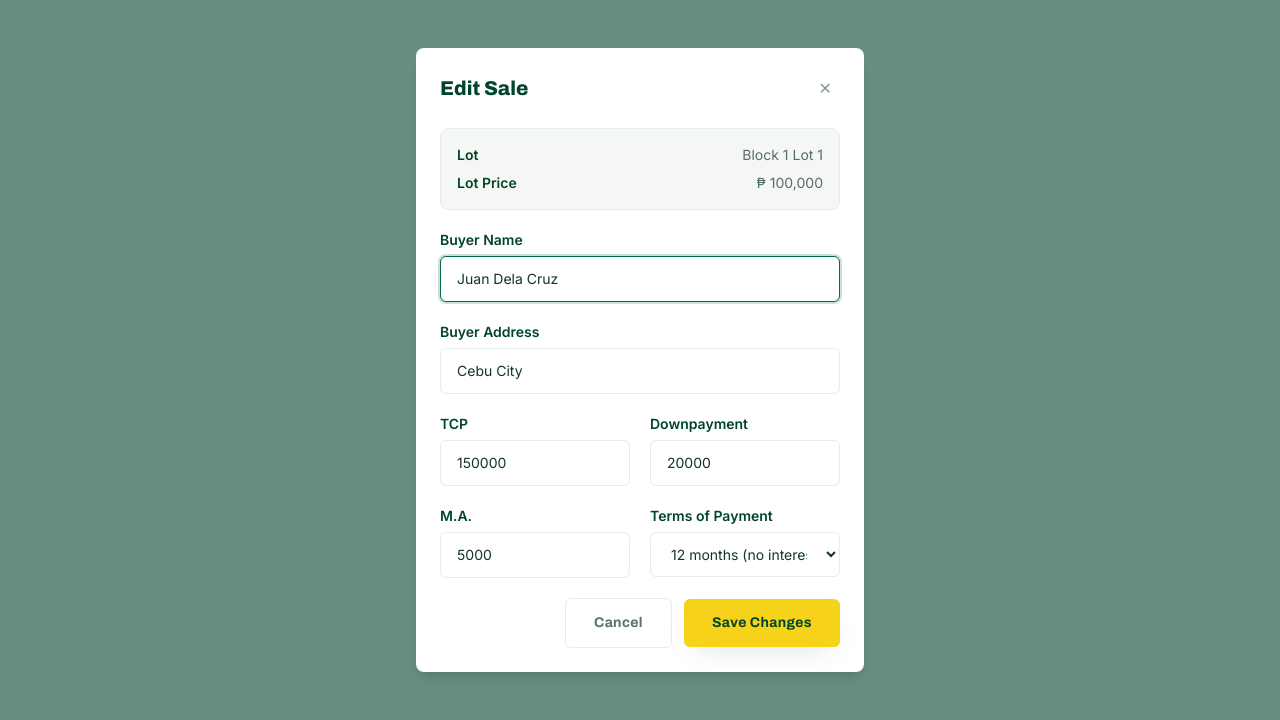
Scenario: SaleDetailsModal › saves the edited buyer details and notifies the parent
Replace the text in the field labelled "Buyer Address" with "Davao City" at (640, 371), box [440,348,840,394]
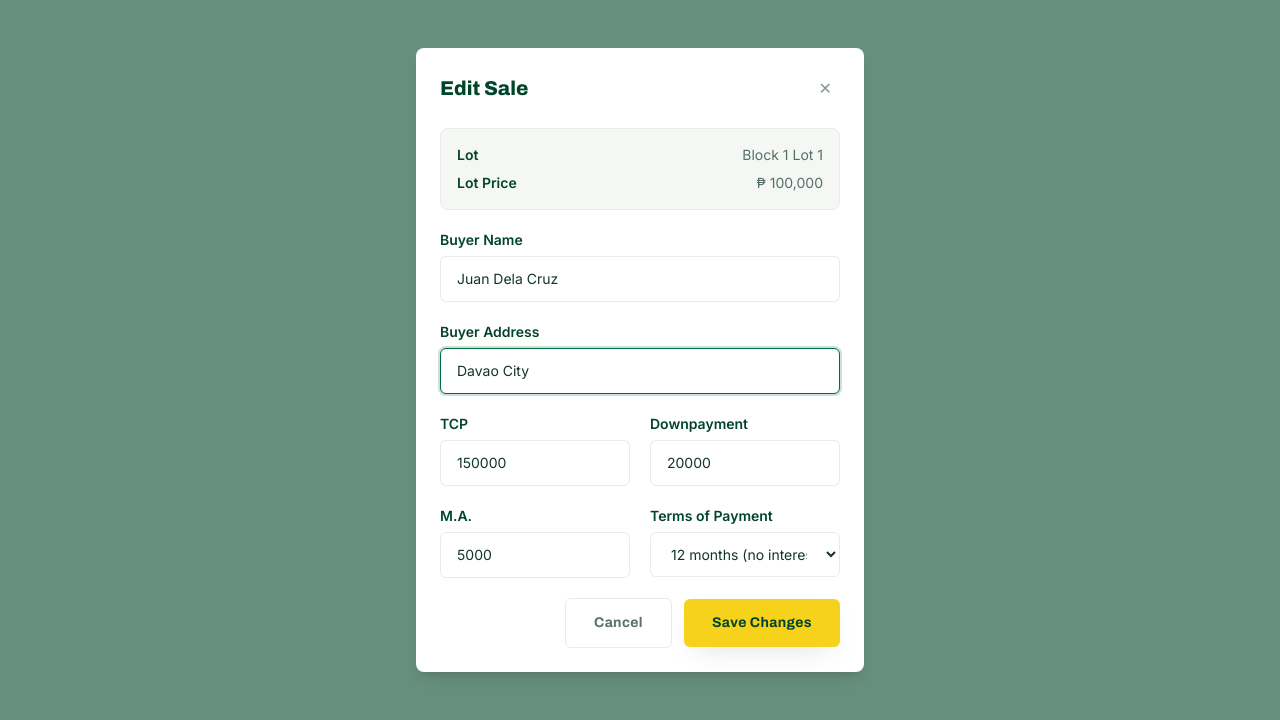
Replace the text in the number field labelled "M.A." with "6500" at (535, 555), box [440,532,630,578]
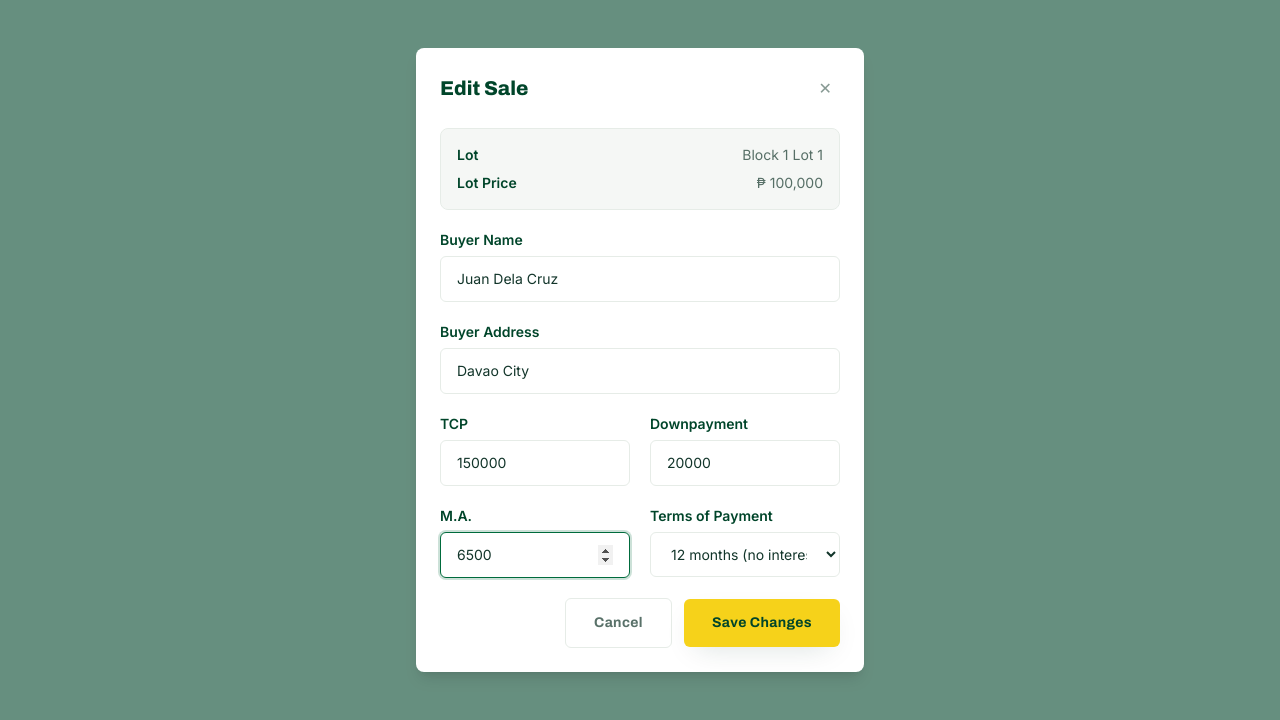
Click the button "Save Changes".
click(762, 623)  # box [684,599,840,647]
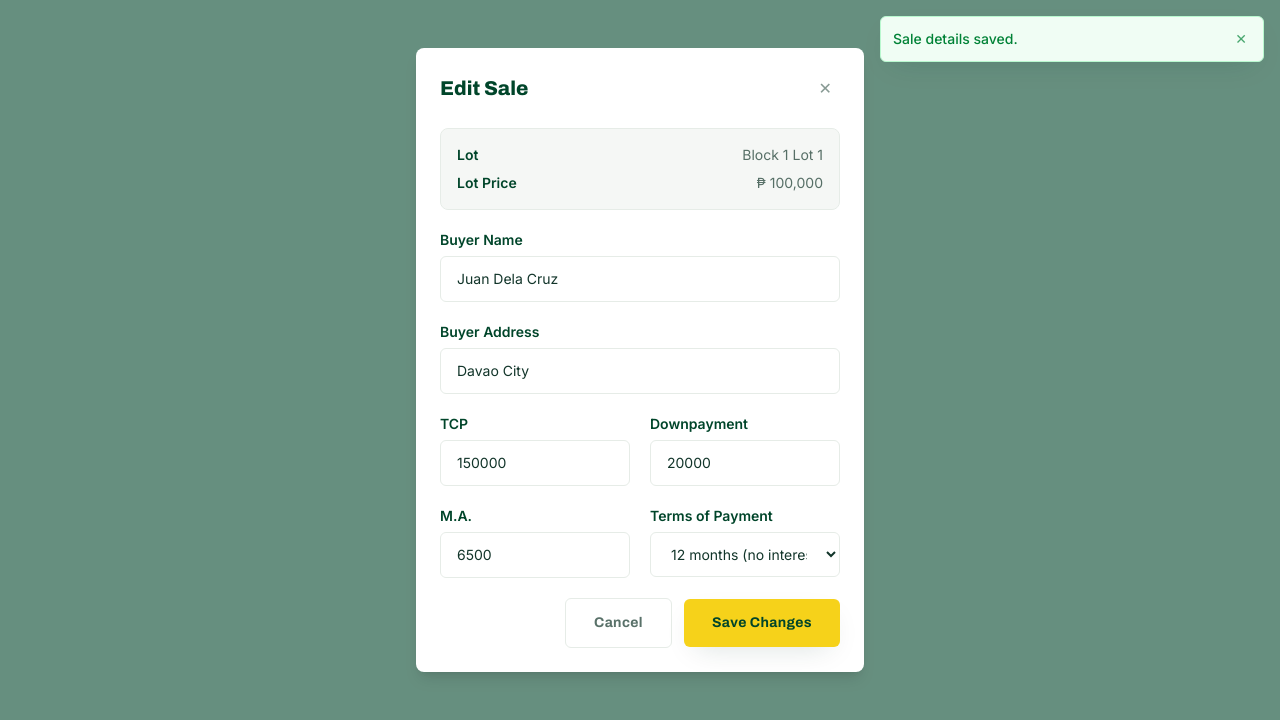
Expected: the text "Sale details saved." is shown, [893,29,1018,49]
